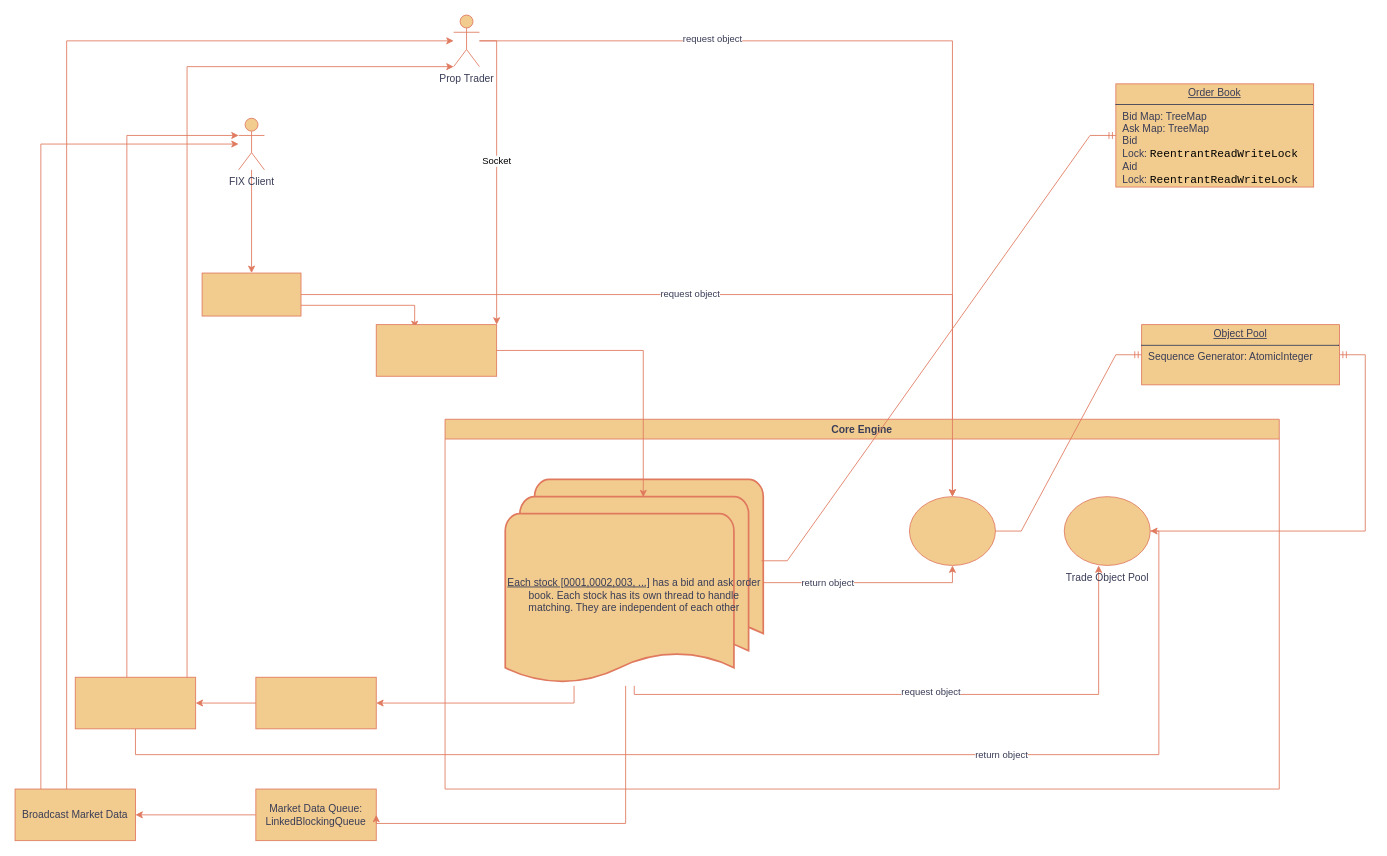
Some shapes in this 1387 by 856 pixel diagram are drawn without their labels. Each missing label, with the box of its shape:
Fix Server: (201, 272, 301, 316)
Order Object Pool: (909, 496, 995, 565)
Order Processing Queue: LinkedBlockingQueue: (375, 324, 497, 376)
Trade Data Handling: (74, 676, 196, 729)
Trade Data Queue: LinkedBlockingQueue: (255, 676, 376, 729)
